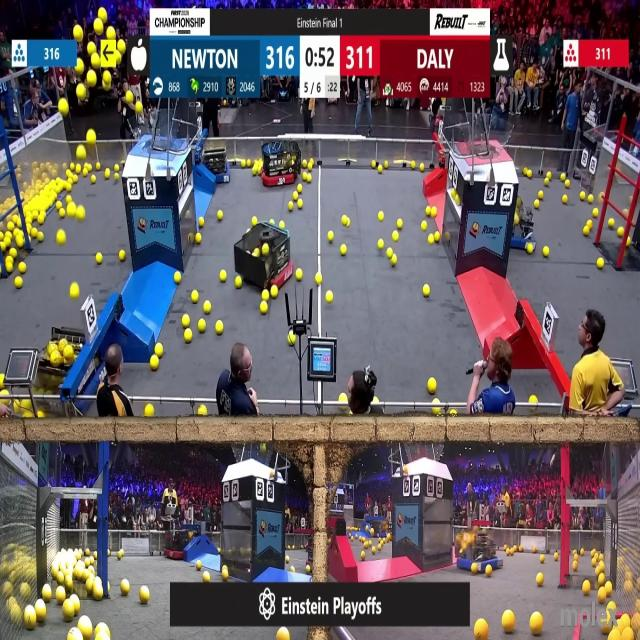ball_airborne: (73, 26, 83, 42), (60, 99, 69, 116), (88, 130, 97, 146), (70, 283, 79, 298), (89, 71, 98, 85), (76, 86, 85, 100), (95, 20, 104, 34), (76, 206, 85, 220), (76, 145, 85, 159), (58, 232, 66, 246), (76, 60, 84, 74), (103, 71, 111, 84), (99, 7, 107, 20), (92, 56, 100, 68), (89, 42, 97, 54), (126, 92, 134, 104), (116, 40, 124, 52), (68, 205, 76, 217), (107, 28, 115, 39), (136, 102, 142, 114), (115, 54, 121, 65), (260, 445, 266, 455)
ball_ground: (530, 614, 543, 636), (502, 612, 514, 634), (64, 602, 75, 620), (81, 622, 92, 640), (36, 603, 46, 622), (140, 588, 150, 604), (42, 587, 52, 603), (57, 588, 67, 603), (149, 355, 158, 370), (120, 581, 129, 596), (278, 628, 289, 640), (144, 406, 154, 419), (428, 378, 436, 394), (598, 588, 606, 604), (95, 587, 104, 601), (601, 622, 610, 636), (66, 577, 74, 592), (584, 582, 592, 596), (154, 344, 162, 357), (220, 567, 228, 580), (536, 572, 543, 586), (184, 328, 191, 342), (204, 302, 212, 314), (259, 303, 267, 315), (5, 262, 13, 274), (216, 321, 223, 334), (182, 315, 189, 328), (96, 625, 103, 638), (199, 407, 207, 418), (174, 272, 181, 284), (199, 320, 206, 332), (204, 570, 211, 582), (190, 290, 197, 302), (288, 335, 295, 347), (325, 290, 332, 302), (597, 257, 604, 269), (16, 236, 23, 248), (74, 600, 80, 614), (604, 584, 611, 596), (87, 581, 94, 593), (17, 264, 25, 274), (529, 394, 537, 404), (21, 400, 29, 410), (14, 277, 21, 288), (236, 277, 243, 288), (118, 250, 125, 261), (272, 286, 278, 298), (423, 284, 429, 296), (296, 270, 302, 282), (341, 245, 348, 255), (37, 234, 44, 244), (420, 220, 427, 230), (343, 216, 350, 226), (607, 601, 614, 611), (97, 252, 103, 263), (316, 274, 322, 285), (528, 244, 534, 255), (264, 289, 270, 300), (38, 212, 44, 223), (0, 374, 4, 390), (0, 242, 7, 251), (542, 247, 548, 257), (379, 240, 385, 250), (220, 272, 226, 282), (216, 210, 222, 220), (327, 232, 333, 242), (195, 560, 201, 570), (60, 208, 66, 218), (199, 217, 205, 227), (434, 233, 440, 243), (486, 566, 492, 576), (341, 392, 347, 402), (584, 225, 590, 235), (396, 219, 402, 229), (428, 236, 434, 246), (598, 574, 604, 584), (432, 409, 439, 417), (291, 191, 298, 199), (1, 388, 8, 396), (195, 234, 200, 245), (471, 563, 476, 574), (379, 212, 385, 221), (392, 233, 398, 242), (387, 248, 393, 257), (579, 191, 585, 200), (619, 229, 625, 238), (10, 248, 16, 257), (66, 182, 72, 191), (32, 230, 38, 239), (8, 222, 14, 231), (75, 166, 81, 175), (252, 216, 257, 226), (391, 255, 396, 265), (608, 218, 613, 228), (572, 562, 578, 570), (370, 162, 376, 170), (246, 161, 252, 169), (72, 175, 78, 183), (284, 556, 290, 564), (66, 170, 72, 178), (288, 203, 293, 212), (307, 565, 312, 574), (594, 208, 599, 217), (555, 553, 560, 562), (360, 552, 365, 561), (589, 193, 594, 202), (105, 170, 110, 179), (534, 200, 539, 209), (92, 176, 98, 183), (378, 167, 384, 174), (68, 634, 75, 640), (587, 220, 593, 227), (540, 554, 544, 564), (563, 194, 568, 202), (420, 165, 425, 173), (431, 208, 436, 216), (412, 162, 417, 170), (67, 194, 72, 202), (120, 552, 125, 560), (527, 170, 532, 178), (306, 161, 311, 169), (370, 548, 375, 556), (308, 174, 312, 183), (426, 207, 430, 216), (452, 412, 458, 418), (519, 545, 525, 551), (114, 165, 119, 172), (114, 174, 119, 181), (532, 545, 537, 552), (252, 168, 257, 175), (627, 239, 632, 246), (297, 201, 301, 209), (538, 190, 542, 198), (297, 184, 301, 192), (544, 178, 548, 186), (566, 182, 570, 190), (242, 161, 246, 169), (546, 172, 550, 180), (97, 164, 101, 172), (58, 202, 62, 210), (0, 234, 4, 242), (290, 566, 295, 572), (432, 398, 438, 403), (280, 220, 284, 227), (384, 163, 388, 170), (561, 173, 565, 180), (580, 550, 584, 557), (593, 560, 597, 567), (218, 547, 221, 553)
goal: (460, 118, 516, 158), (128, 116, 188, 152)
robot_blue: (33, 324, 105, 414), (451, 525, 501, 572), (200, 139, 230, 183), (511, 202, 537, 249)
robot_red: (236, 224, 292, 288), (260, 138, 303, 186), (164, 526, 197, 558)
